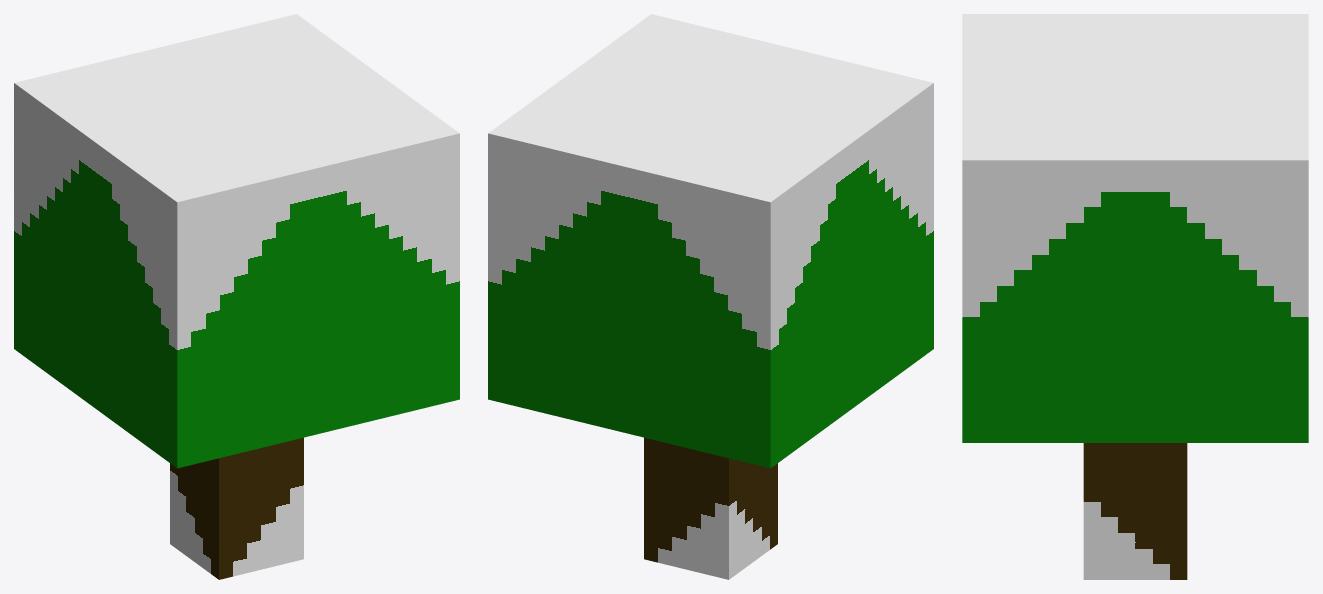
File: Pine_4.fbx
3 views of the same model, side by side, from view 1: azimuth 30°, elevation 25°; view 2: azimuth 150°, elevation 25°; view 3: azimuth 270°, elevation 25° (orthographic). The views are drawn at different scales.
Visible parts, largest first — view 1: Pine_4; view 2: Pine_4; view 3: Pine_4.
Boxes of the visible parts, bbox=[...] form: Pine_4: bbox=[14, 14, 459, 579]; Pine_4: bbox=[488, 14, 933, 579]; Pine_4: bbox=[962, 14, 1308, 579].
Size of the model in its own units: 20 by 30 by 20.
Materials: 1 (1 with a texture image).
